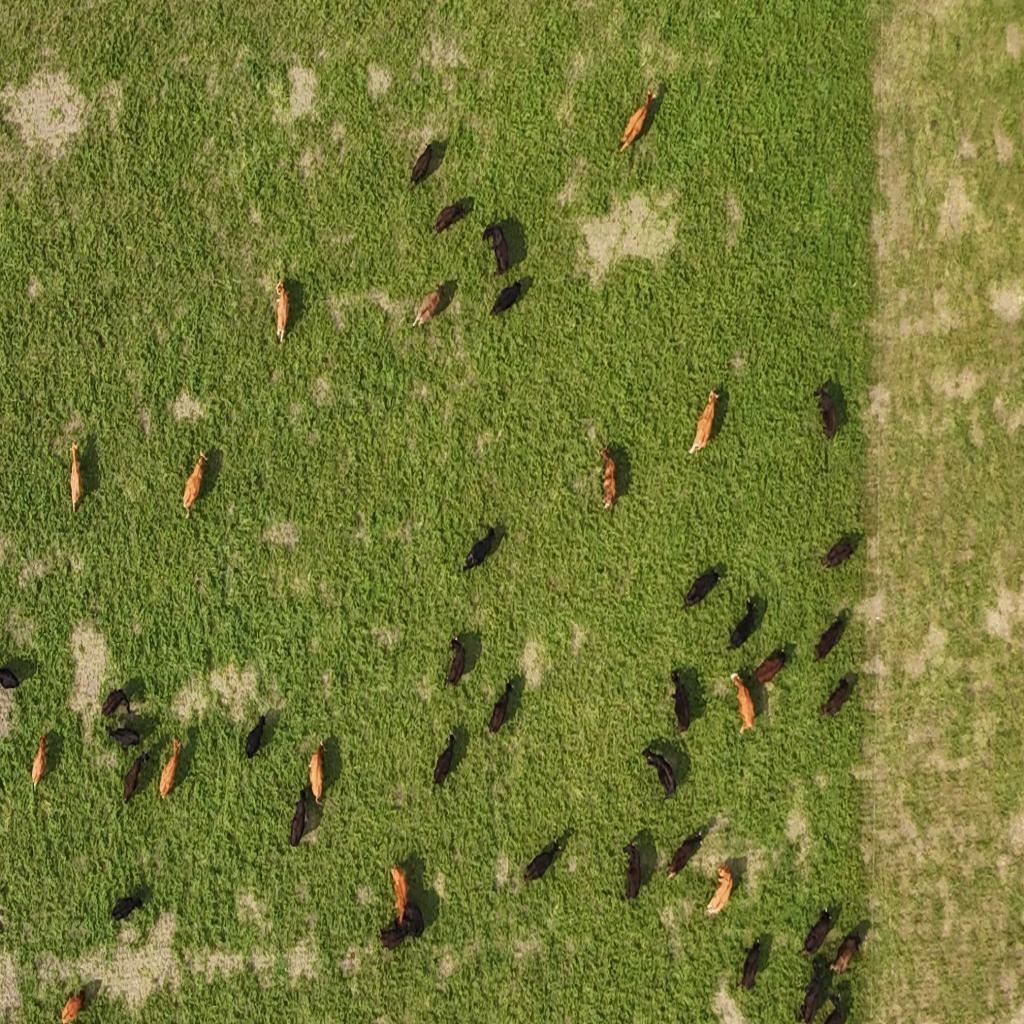cow: (378, 884, 424, 952), (617, 86, 658, 158), (182, 434, 212, 517), (523, 834, 565, 889), (688, 392, 720, 456), (623, 834, 654, 900), (798, 959, 829, 1024), (666, 828, 703, 882), (119, 744, 152, 802), (642, 746, 676, 799), (816, 380, 844, 444), (464, 524, 500, 572), (820, 532, 860, 575), (800, 905, 833, 956), (828, 928, 863, 976), (484, 221, 514, 275), (60, 980, 96, 1024), (731, 672, 756, 735), (729, 595, 758, 649), (598, 444, 620, 514), (819, 675, 854, 719), (814, 613, 846, 661), (432, 198, 470, 238), (684, 567, 721, 608), (705, 864, 733, 917), (409, 140, 441, 186), (158, 738, 180, 800), (670, 670, 691, 734), (489, 678, 513, 734), (413, 287, 444, 330), (754, 647, 787, 687), (433, 732, 455, 792), (271, 274, 289, 346), (102, 684, 136, 720), (308, 740, 326, 806), (491, 278, 522, 316), (68, 441, 84, 514), (289, 786, 308, 847), (740, 937, 761, 992), (390, 865, 408, 928), (244, 714, 267, 762), (0, 657, 31, 691), (445, 635, 465, 687), (106, 722, 141, 751), (111, 894, 144, 923), (31, 732, 47, 791), (822, 995, 848, 1024)
